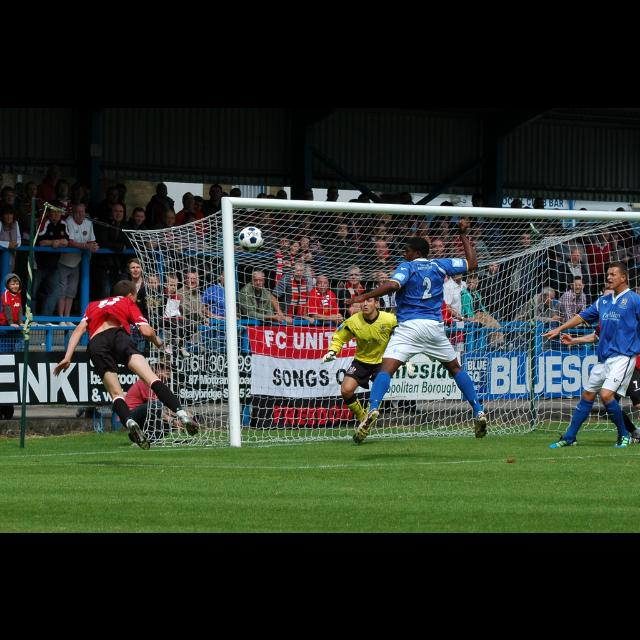Football: (236, 224, 262, 246)
